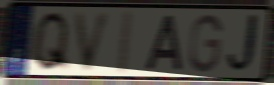A: (143, 14, 185, 73)
G: (187, 13, 224, 75)
I: (114, 8, 135, 76)
J: (225, 12, 264, 77)
Q: (29, 9, 71, 73)
V: (73, 10, 114, 74)
